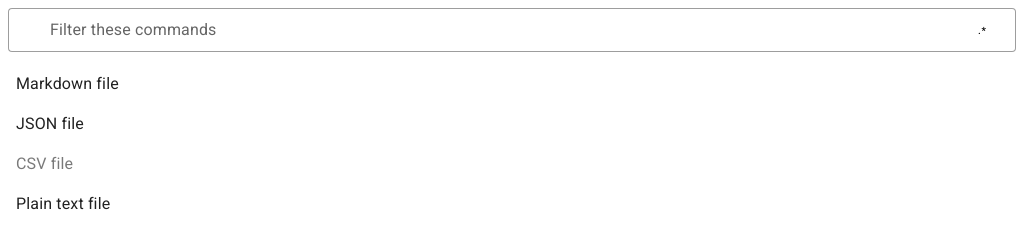
the filter › shows an honest, announced no-match state rather than an empty list
Type "nothing in this list is named that" into the search field labelled "Filter these commands" at x=480, y=28, box [44, 8, 916, 48]
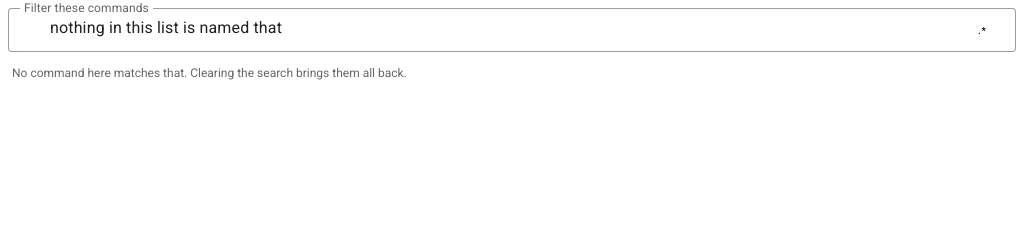
Result: the message "No command here matches that. Clearing the search brings them all back." is shown at [12, 66, 407, 80]
